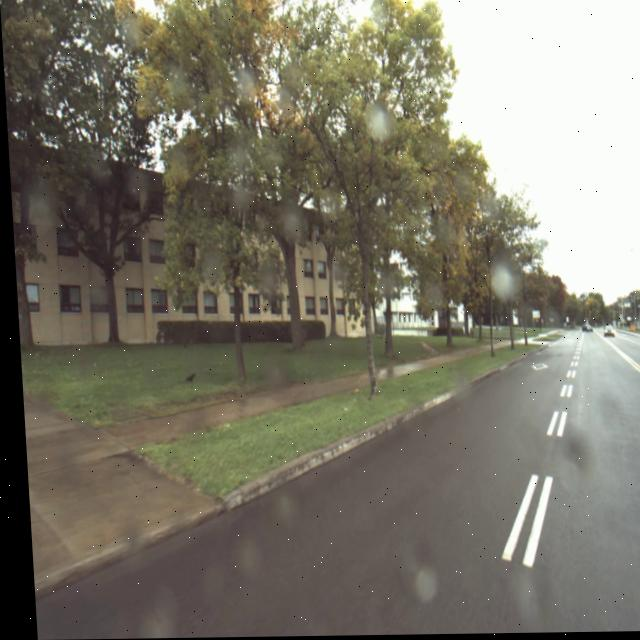car: (598, 328, 614, 343), (576, 323, 589, 335)
